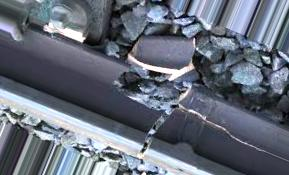tracks_fault: (107, 34, 211, 132)
